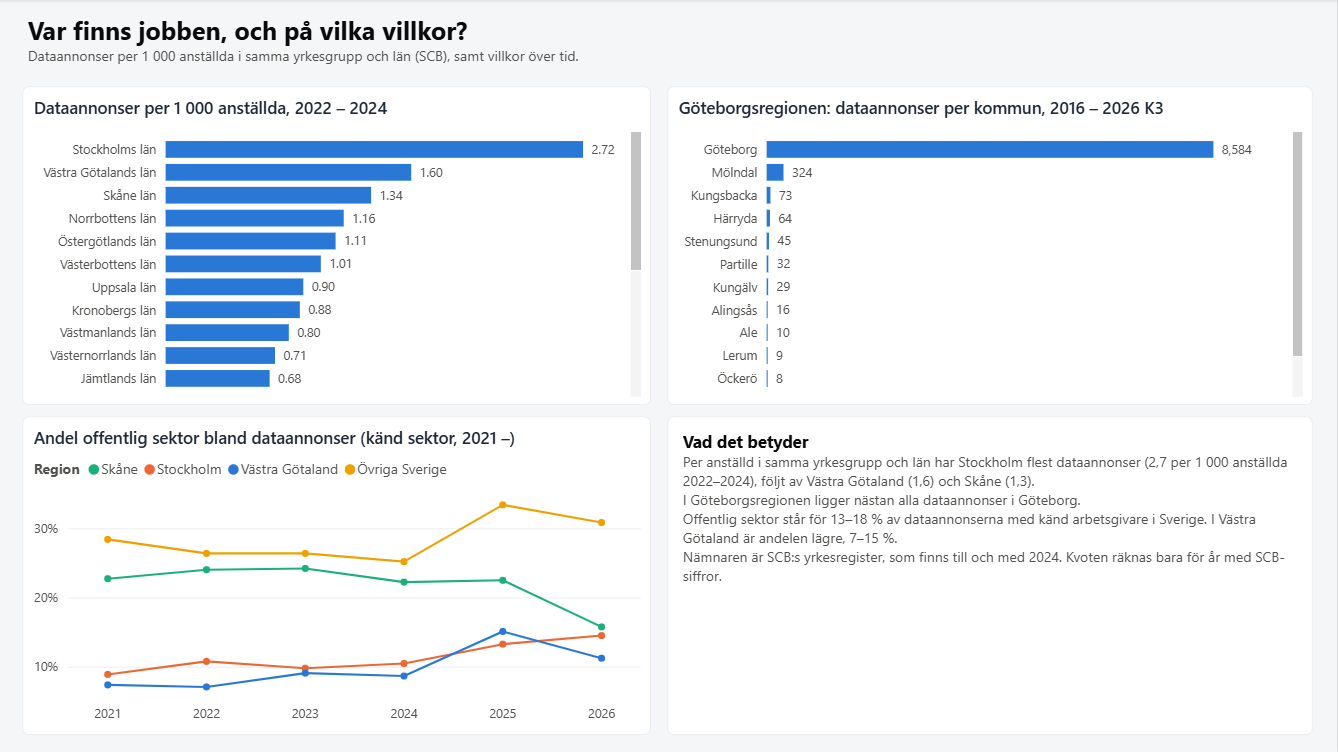

What the dashboard file says about the page in this screenshot:
{"tool":"powerbi","page":{"name":"Var och villkor","canvas":[1280,720],"ordinal":4},"visuals":[{"type":"textbox","box":[24,8,900,64],"z":0},{"type":"clusteredBarChart","title":"Dataannonser per 1 000 anställda, 2022 – 2024","fields":{"Category":["Län.Län"],"Y":["Mått.Dataannonser per 1 000 anställda"]},"box":[24,84,600,304],"z":1},{"type":"clusteredBarChart","title":"Göteborgsregionen: dataannonser per kommun, 2016 – 2026 K3","fields":{"Category":["Kommun.Kommun"],"Y":["Mått.Dataannonser"]},"box":[640,84,616,304],"z":2},{"type":"lineChart","title":"Andel offentlig sektor bland dataannonser (känd sektor, 2021 –)","fields":{"Category":["Datum.År"],"Series":["Län.Region"],"Y":["Mått.Andel offentlig sektor"]},"box":[24,400,600,304],"z":3},{"type":"textbox","box":[640,400,616,304],"z":4}]}

Visuals, with their boxes in screenshot pixels (x1, y1, x2, y2), scaled from the page's 1280x720 canvas onto the 1338x752 screenshot:
textbox: l=25, t=8, r=966, b=75
"Dataannonser per 1 000 anställda, 2022 – 2024" clusteredBarChart: l=25, t=88, r=652, b=405
"Göteborgsregionen: dataannonser per kommun, 2016 – 2026 K3" clusteredBarChart: l=669, t=88, r=1313, b=405
"Andel offentlig sektor bland dataannonser (känd sektor, 2021 –)" lineChart: l=25, t=418, r=652, b=735
textbox: l=669, t=418, r=1313, b=735
